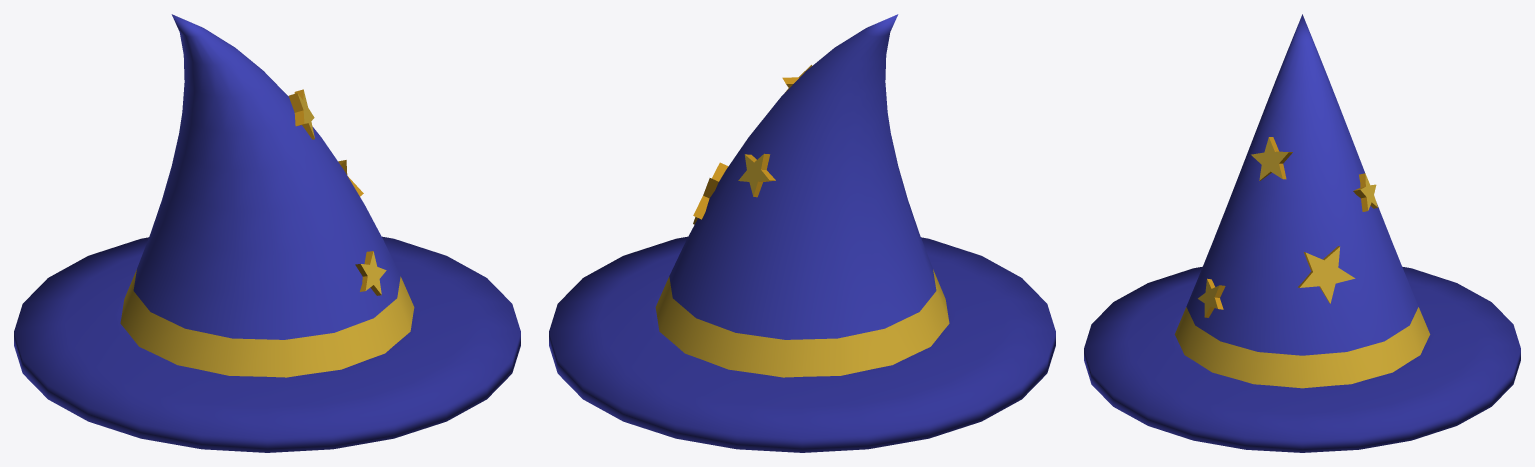
Rendered from wizard.glb.
3 views of the same model, side by side, from view 1: azimuth 30°, elevation 25°; view 2: azimuth 150°, elevation 25°; view 3: azimuth 270°, elevation 25° (orthographic). The views are drawn at different scales.
Visible parts, largest first — view 1: Cone, Brim, Stars; view 2: Cone, Brim, Stars; view 3: Cone, Brim, Stars.
Part boxes in pixels (x1=…): Cone: x1=120, y1=14, x2=414, y2=377; Brim: x1=14, y1=236, x2=520, y2=452; Stars: x1=288, y1=89, x2=386, y2=295; Cone: x1=655, y1=14, x2=949, y2=377; Brim: x1=549, y1=236, x2=1055, y2=452; Stars: x1=693, y1=65, x2=812, y2=224; Cone: x1=1174, y1=14, x2=1430, y2=388; Brim: x1=1084, y1=266, x2=1520, y2=452; Stars: x1=1198, y1=137, x2=1377, y2=317.
Bounding box in the file's own units: 0.64 × 0.495 × 0.64.
